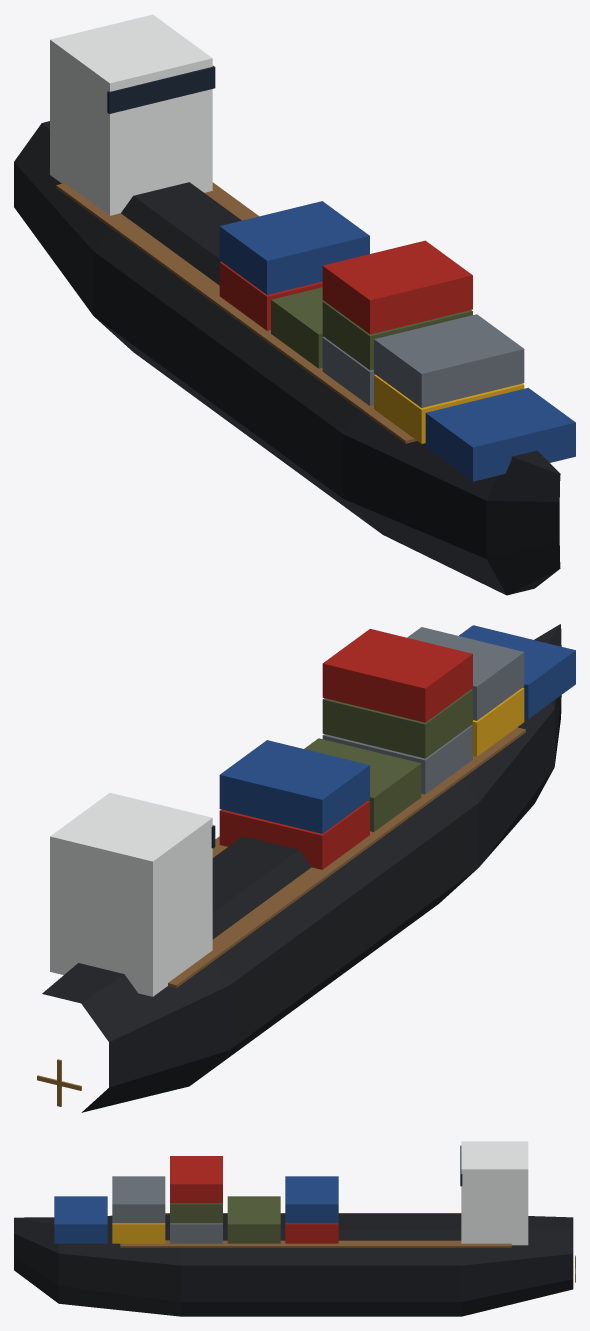
The model's file is veh_naval_merchant_a06.glb.
3 renders of one model, top to bottom at view 1: azimuth 30°, elevation 25°; view 2: azimuth 150°, elevation 25°; view 3: azimuth 270°, elevation 25°, orthographic. The views are drawn at different scales.
Visible parts, largest first — view 1: body; view 2: body; view 3: body.
Part boxes in pixels (x1,y1,x2,y2): body: (14,14,575,595); body: (42,624,575,1112); body: (14,1141,573,1316).
Size of what is drawn, in the model's own units: 3.96 by 7.64 by 25.33.
